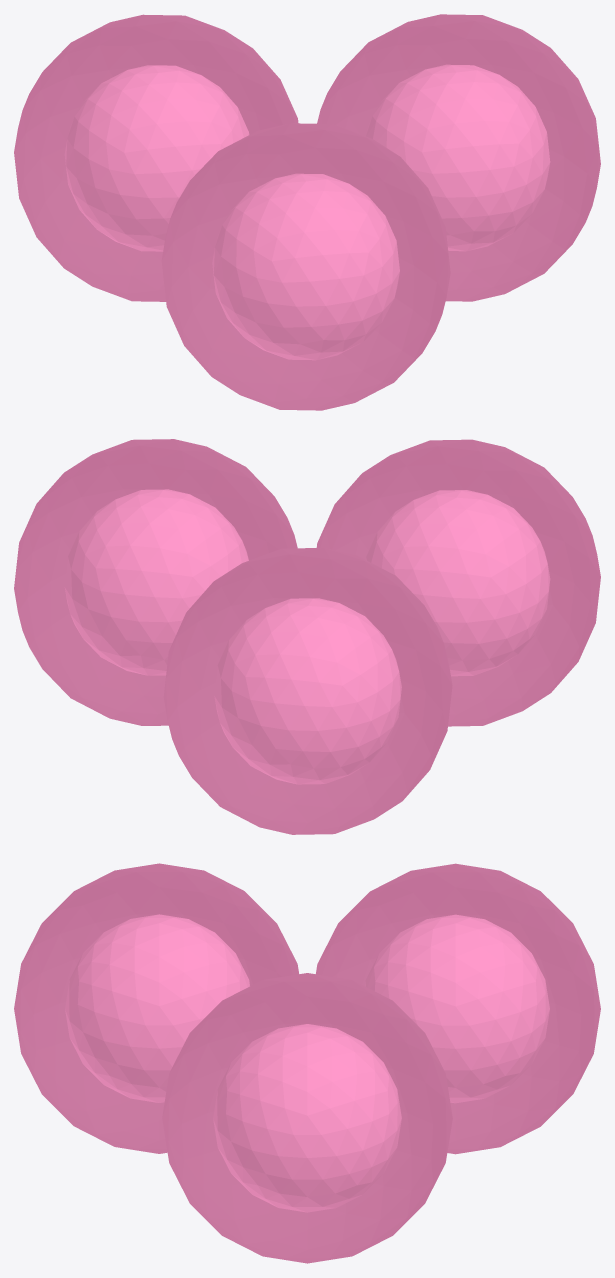
Rendered from dahlia.glb.
3 renders of one model, top to bottom at view 1: azimuth 30°, elevation 25°; view 2: azimuth 150°, elevation 25°; view 3: azimuth 270°, elevation 25°, orthographic.
Parts seen in each view (by area): view 1: Icosphere, Icosphere.001, Icosphere.002; view 2: Icosphere.002, Icosphere.001, Icosphere; view 3: Icosphere.001, Icosphere, Icosphere.002.
Part boxes in pixels (box(x1,y1,x2,y2)): Icosphere: box(161, 123, 450, 410); Icosphere.001: box(317, 14, 600, 301); Icosphere.002: box(14, 14, 298, 301); Icosphere.002: box(163, 548, 452, 834); Icosphere.001: box(14, 439, 297, 725); Icosphere: box(316, 439, 600, 726); Icosphere.001: box(162, 973, 452, 1263); Icosphere: box(14, 863, 298, 1153); Icosphere.002: box(316, 863, 600, 1154).
Size of the model in its own units: 2.28 by 1.2 by 2.43.
